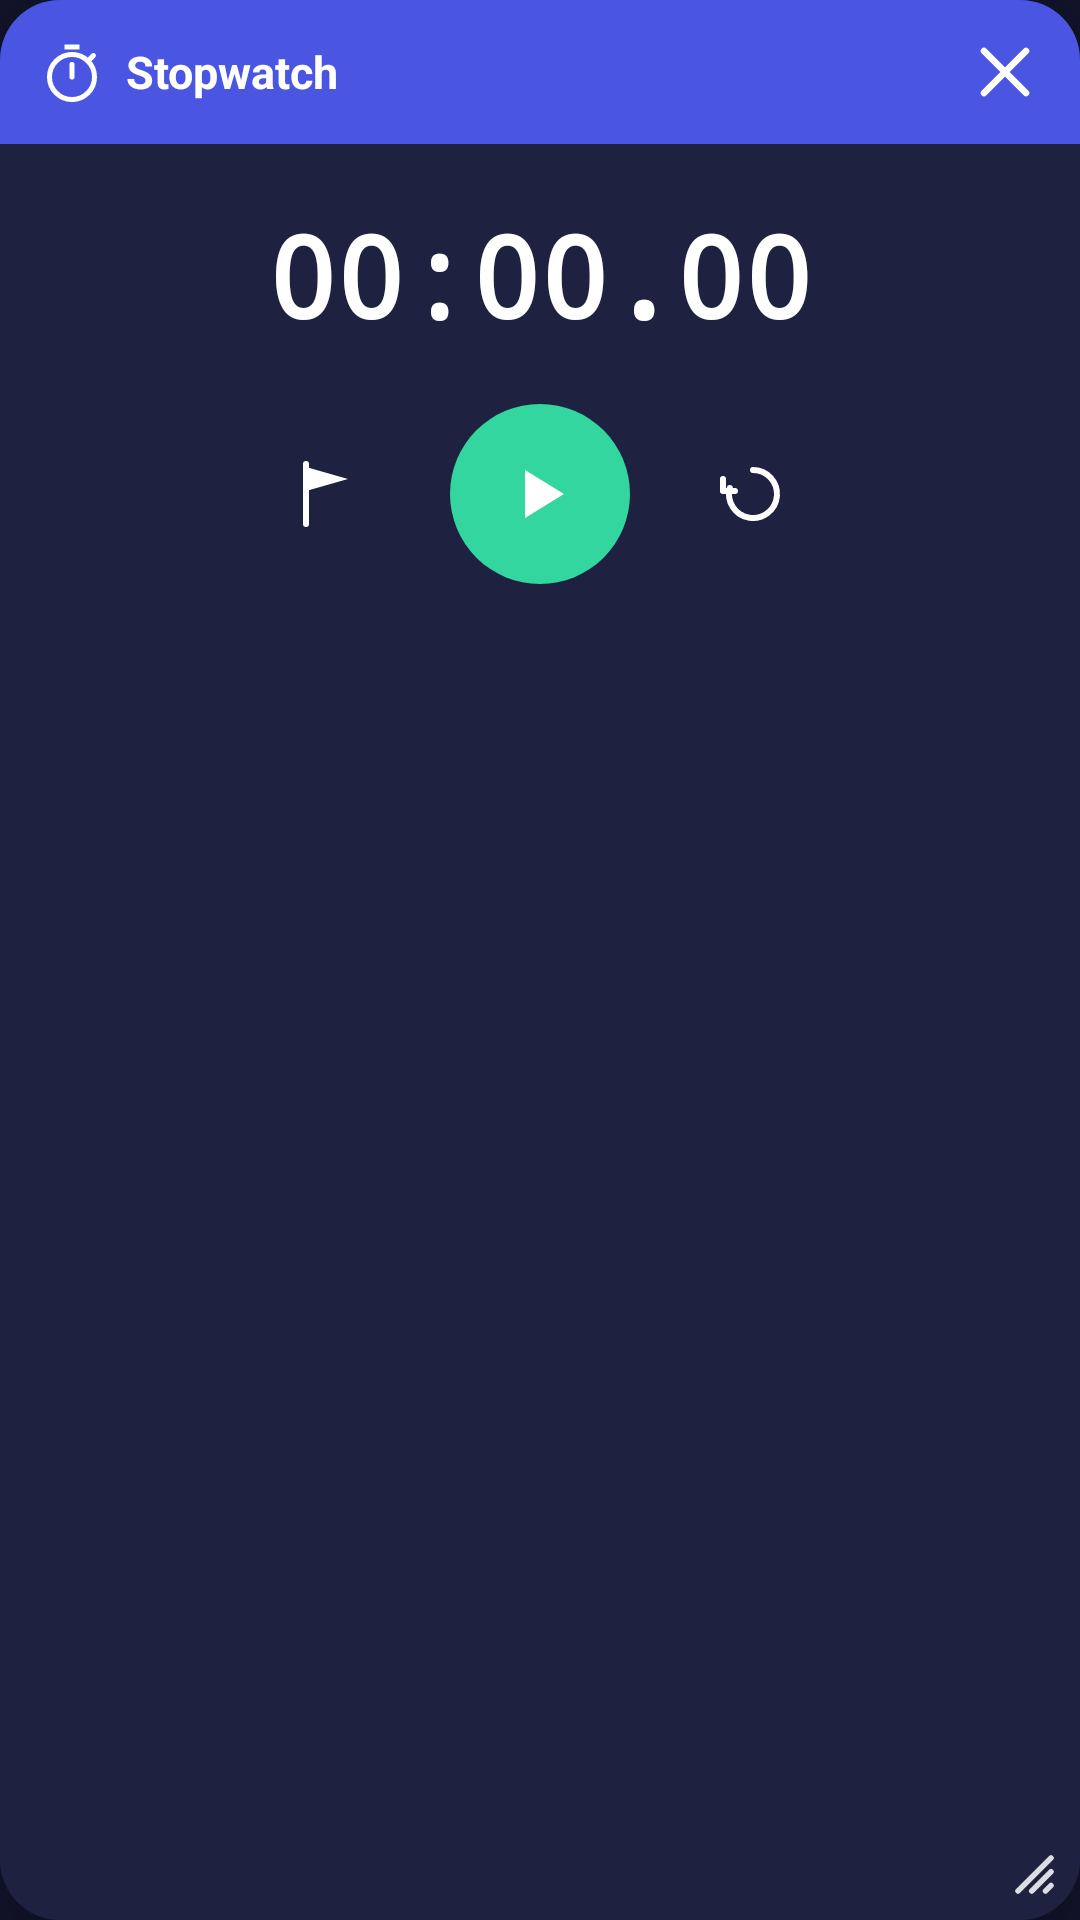

Point at icon controls on the screen. Image size 1080px x 1920px, points as (x=x, y=y).
Close: (x=1005, y=72)
Lap: (x=325, y=494)
Reset: (x=750, y=494)
resize handle: (x=1034, y=1874)
Start: (x=540, y=494)
